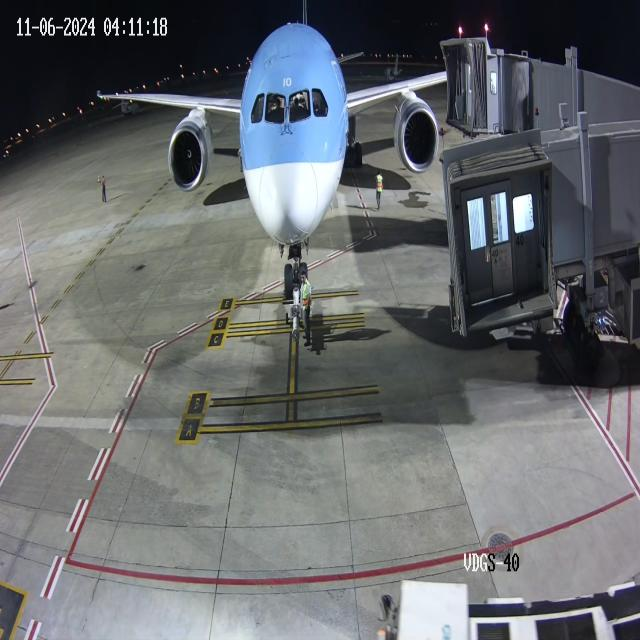bridge: (469, 32, 534, 145)
plane: (82, 1, 432, 302)
window: (248, 84, 332, 130)
